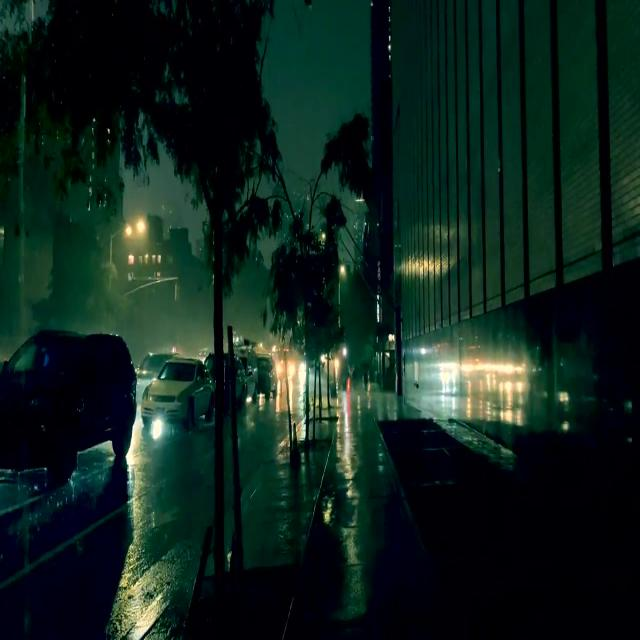Car: (1, 328, 137, 476), (142, 359, 213, 427)
